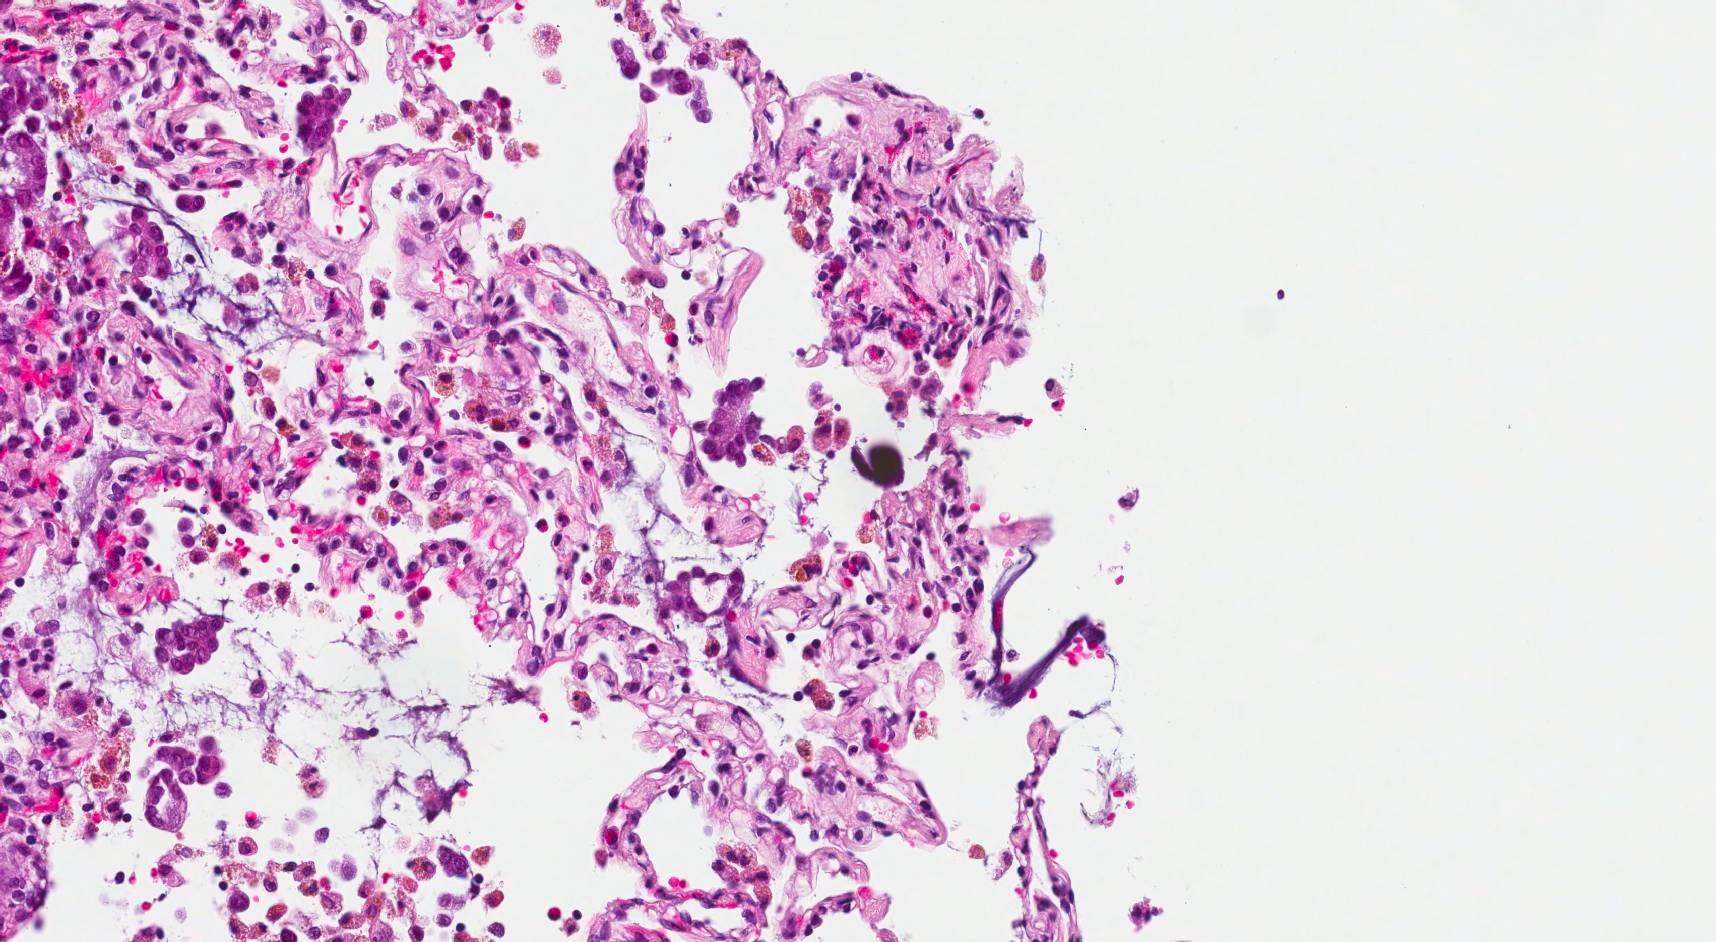stas: (610, 38, 713, 126), (142, 733, 228, 834), (689, 374, 768, 468), (656, 566, 746, 628), (152, 615, 229, 673), (295, 84, 357, 151), (123, 205, 173, 284), (434, 844, 472, 879), (173, 189, 212, 215)
